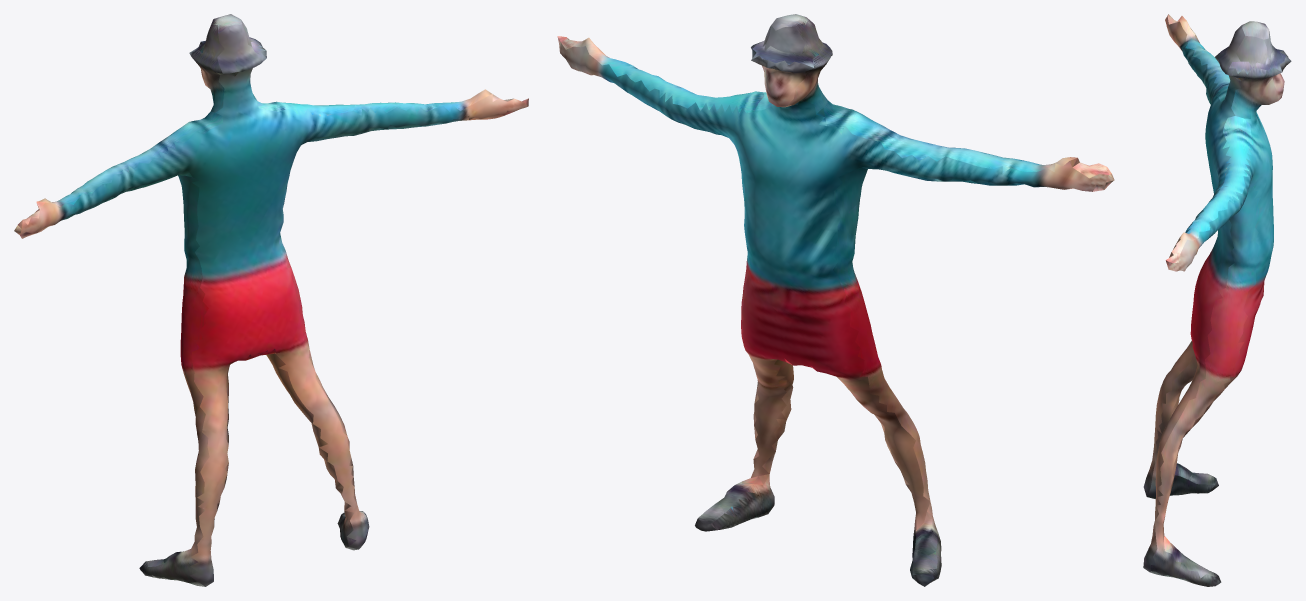
3 renders of one model, left to right at view 1: azimuth 30°, elevation 25°; view 2: azimuth 150°, elevation 25°; view 3: azimuth 270°, elevation 25°, orthographic. The views are drawn at different scales.
Parts seen in each view (by area): view 1: world; view 2: world; view 3: world.
Boxes of the visible parts, <box> form: world: <box>14,14,528,586</box>; world: <box>557,14,1114,586</box>; world: <box>1143,14,1291,586</box>.
Bounding box in the file's own units: 0.9326 × 0.8916 × 0.2342.
Materials: 1 (1 with a texture image).
